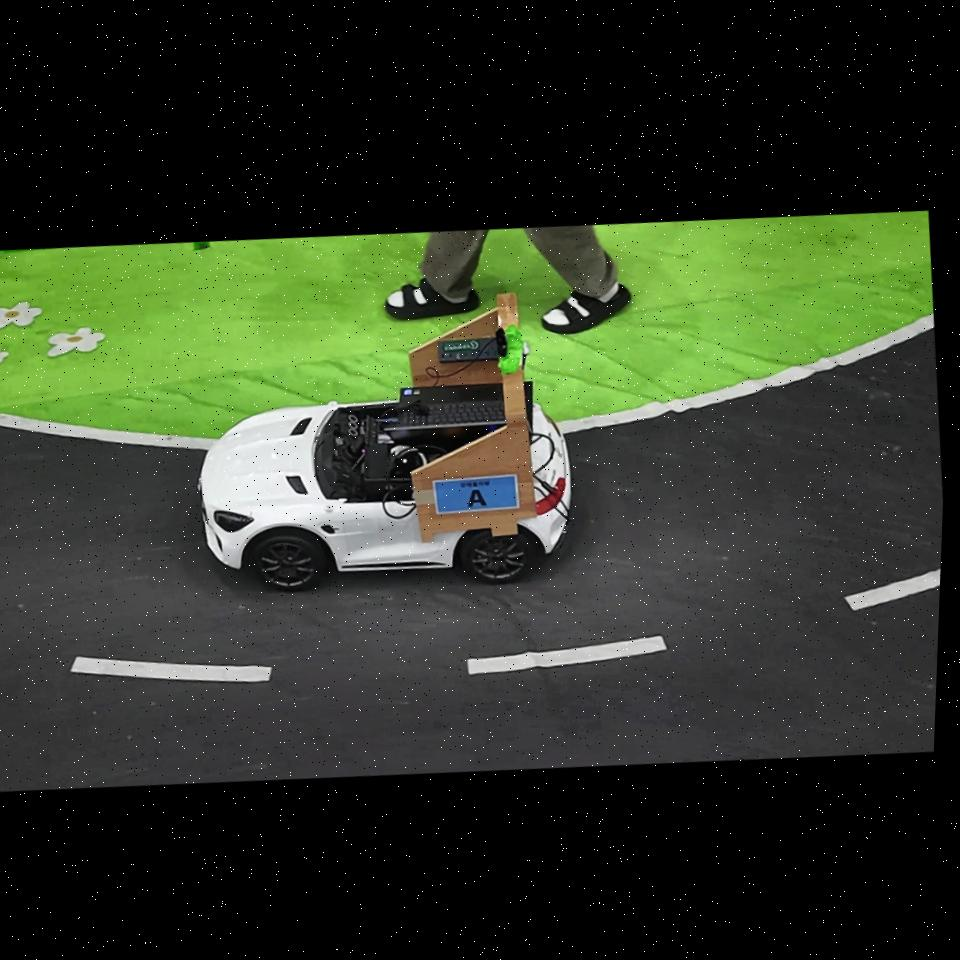broken_line: (467, 636, 667, 674), (70, 657, 271, 681), (844, 569, 941, 611)
